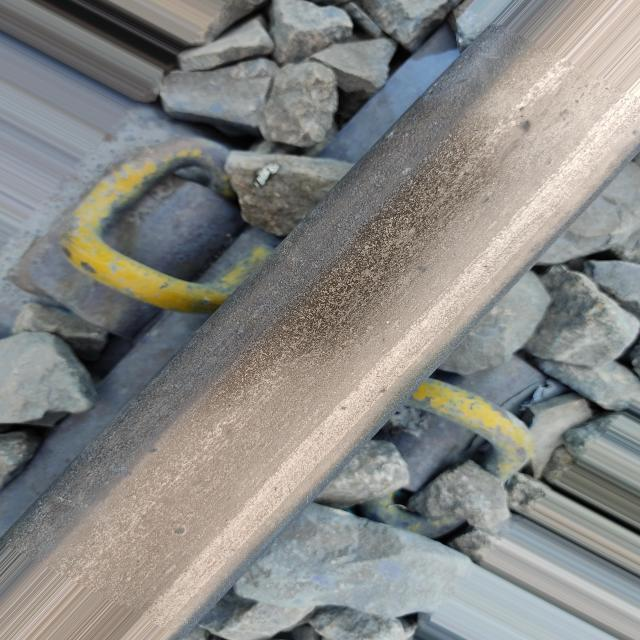Good Fasteners: (0, 70, 271, 336), (373, 354, 547, 492)
